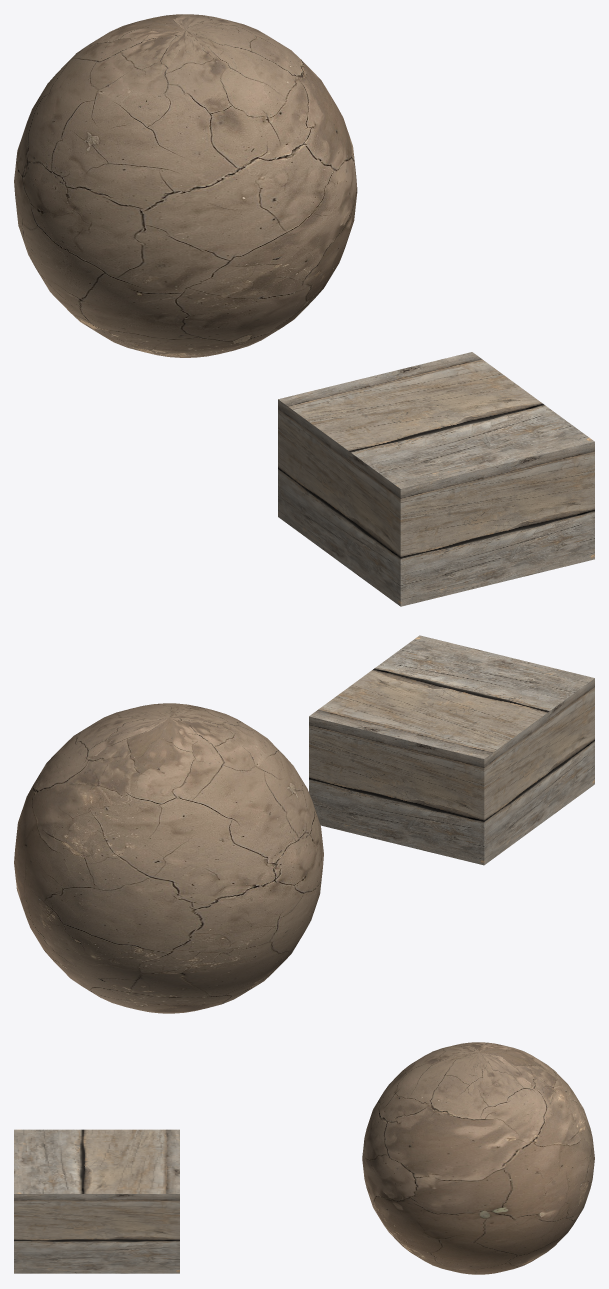
Rendered from test002.gltf.glb.
3 renders of one model, top to bottom at view 1: azimuth 30°, elevation 25°; view 2: azimuth 150°, elevation 25°; view 3: azimuth 270°, elevation 25°, orthographic. The views are drawn at different scales.
Visible parts, largest first — view 1: Sphere001, Box001; view 2: Sphere001, Box001; view 3: Sphere001, Box001.
Part boxes in pixels (bbox=[...]): Sphere001: bbox=[14, 14, 357, 357]; Box001: bbox=[278, 352, 594, 606]; Sphere001: bbox=[14, 703, 323, 1013]; Box001: bbox=[309, 635, 594, 865]; Sphere001: bbox=[362, 1042, 594, 1274]; Box001: bbox=[14, 1129, 179, 1273].
Size of the model in its own units: 29.52 by 29.52 by 73.67.
2 materials, 2 textured.
